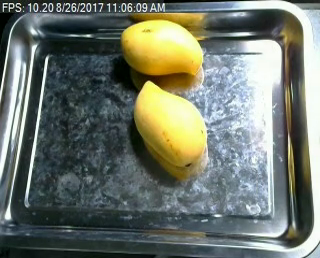Mango: (126, 78, 211, 168), (116, 18, 208, 77)
